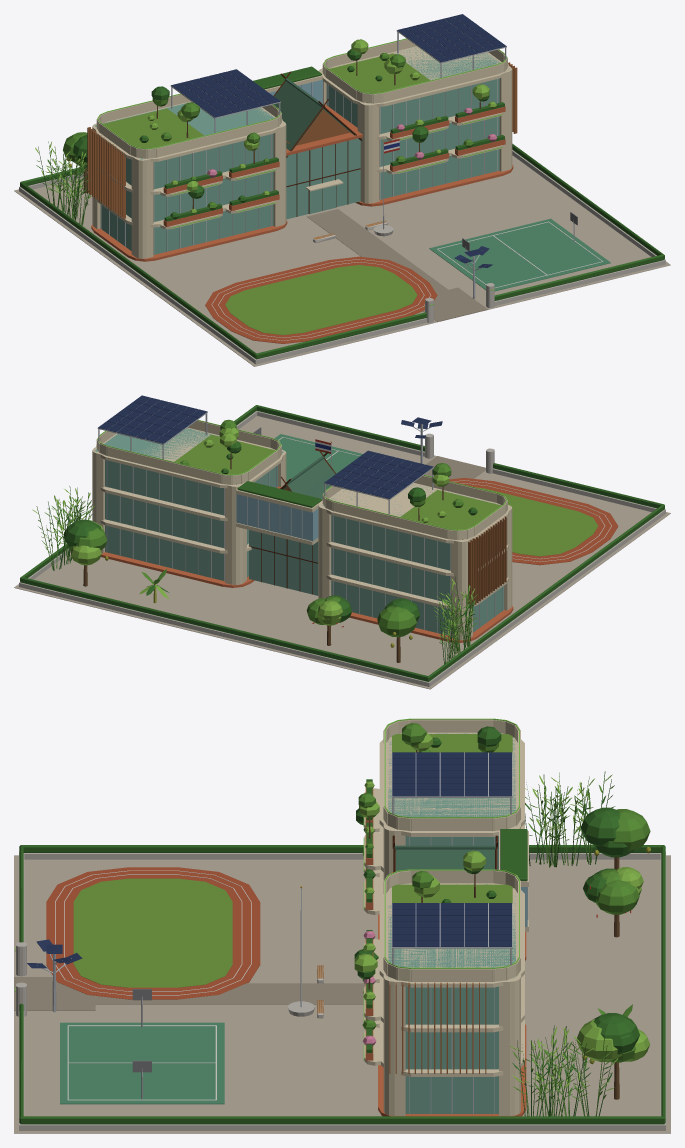
File: school.glb
The picture shows the model from 3 angles, top to bottom: view 1: azimuth 30°, elevation 25°; view 2: azimuth 150°, elevation 25°; view 3: azimuth 270°, elevation 25°; orthographic projection. The views are drawn at different scales.
Visible parts, largest first — view 1: body, windows; view 2: body, windows; view 3: body, windows.
Part boxes in pixels (x1,y1,x2,y2): body: (14, 14, 670, 366); windows: (97, 38, 507, 305); body: (14, 395, 670, 689); windows: (97, 420, 507, 530); body: (14, 719, 670, 1133); windows: (15, 718, 519, 1060).
Size of the model in its own units: 48.98 by 15.03 by 47.9.
